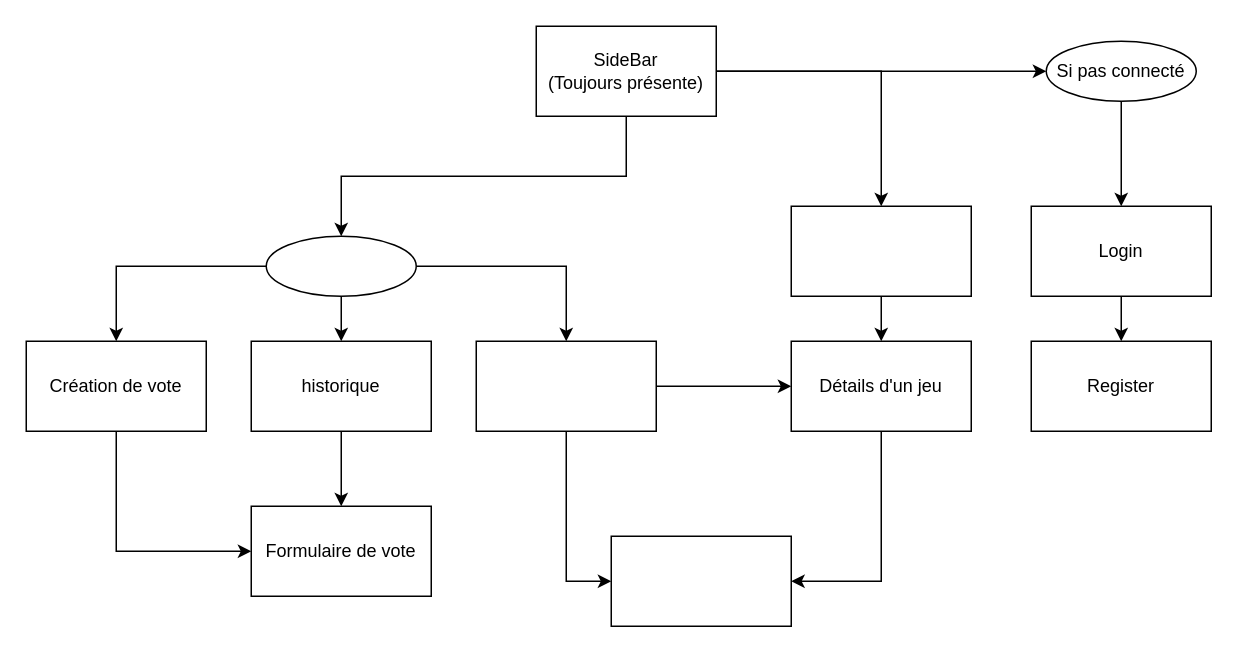
The diagram is 1238 pixels wide and 653 high, and some of its shapes have lost their labels. The shapes that lost their labels are listed below. From the top down, each one's box as (x1, y1, x2, y2) in pixels, then its label:
(265, 235, 416, 296): Si connecté
(790, 205, 971, 296): Recherche
(475, 340, 656, 431): Collection
(610, 535, 791, 626): Formulaire d'ajout d'un jeu dans la collection
